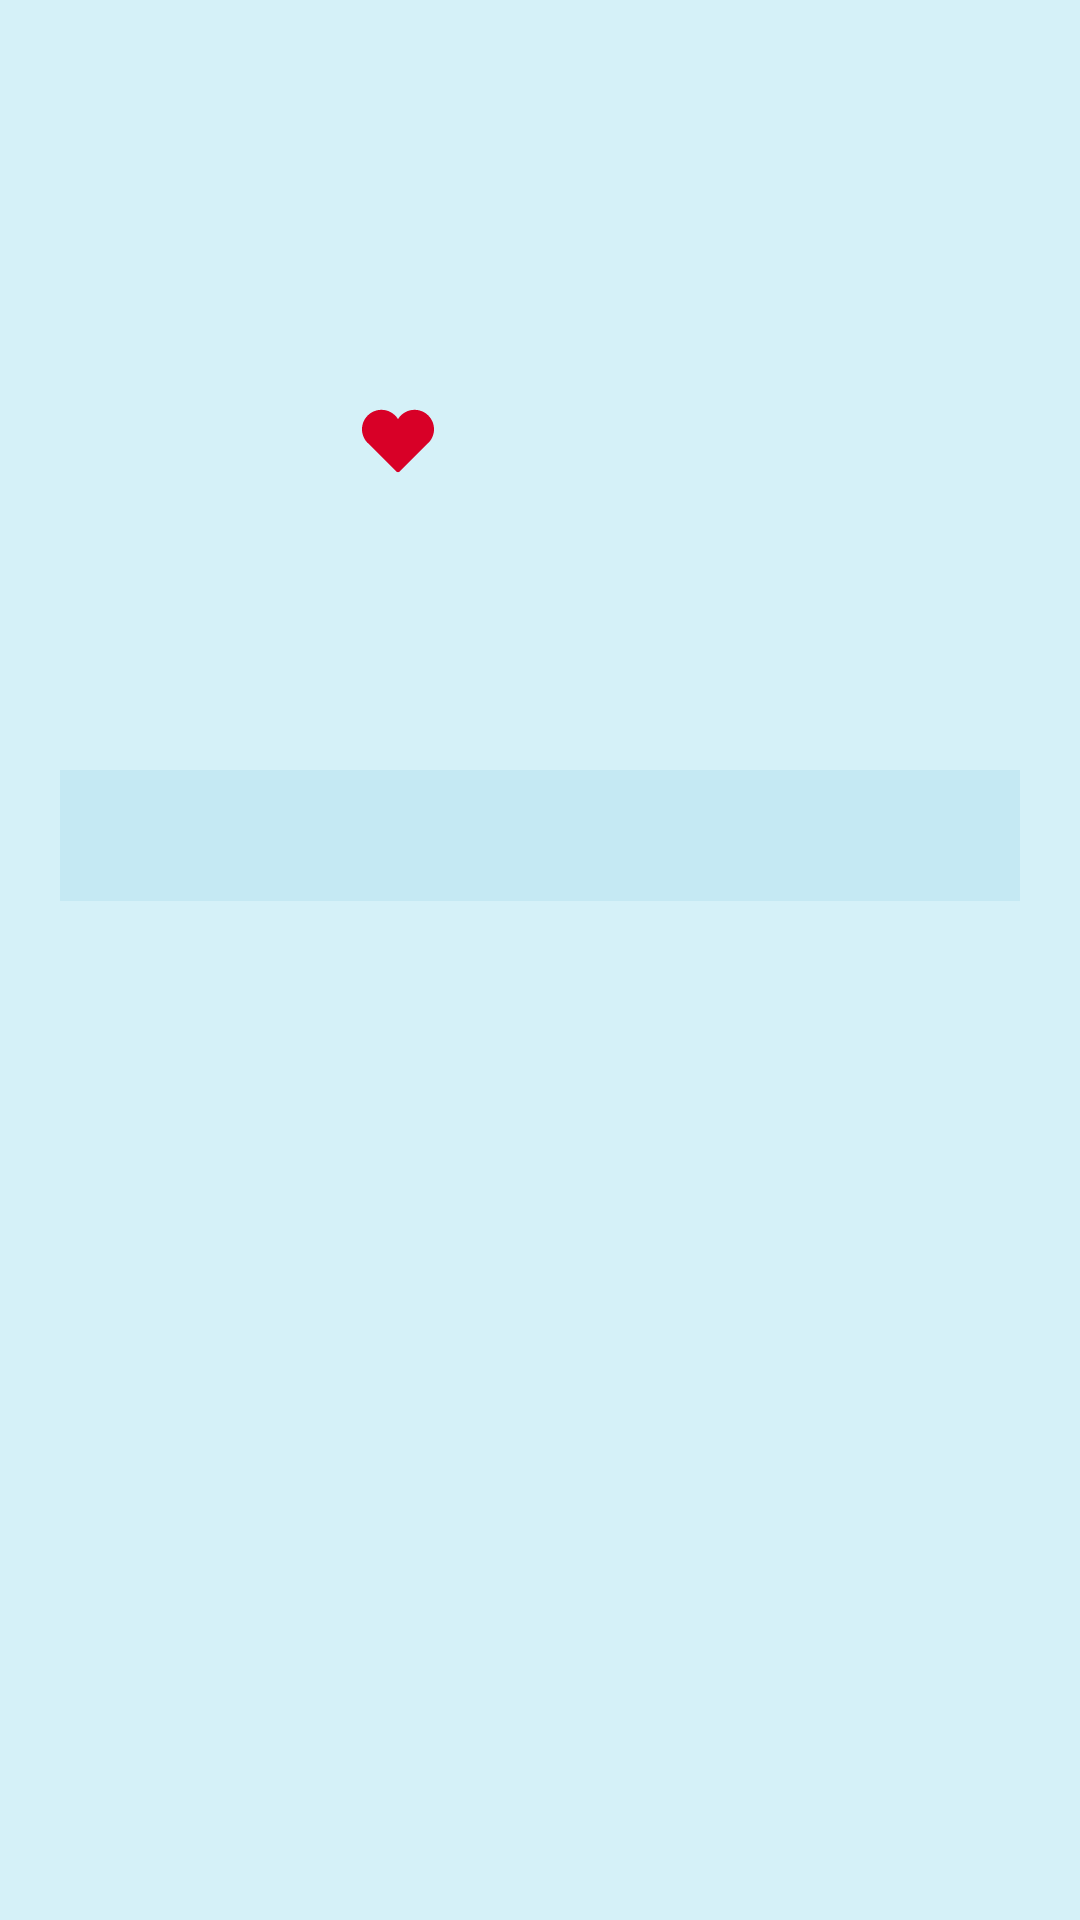

Screen size 1080×1920. Icon name, then its center in pixels as (x=x, y=y):
qrcode like heart: (x=398, y=440)
